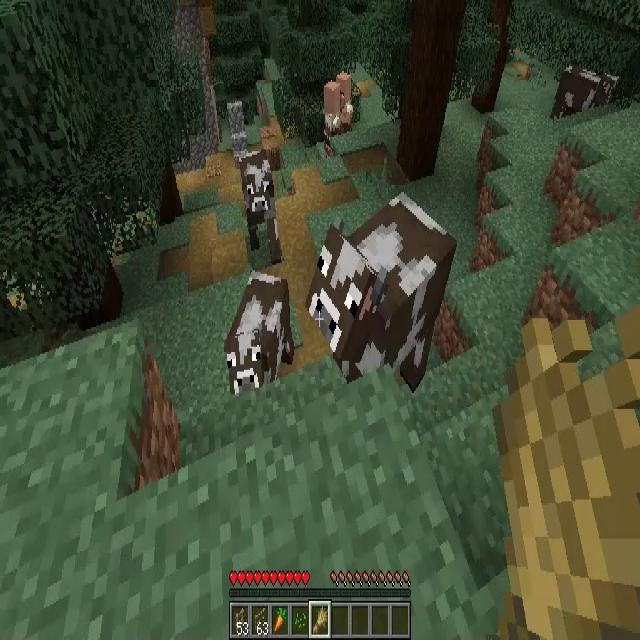cow: (307, 193, 458, 385), (224, 272, 294, 392), (239, 149, 281, 261), (554, 63, 620, 121)
people: (324, 80, 340, 154), (336, 70, 352, 132)
